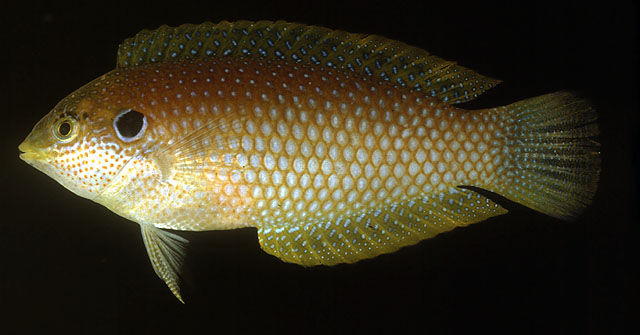fish: (18, 21, 603, 304)
